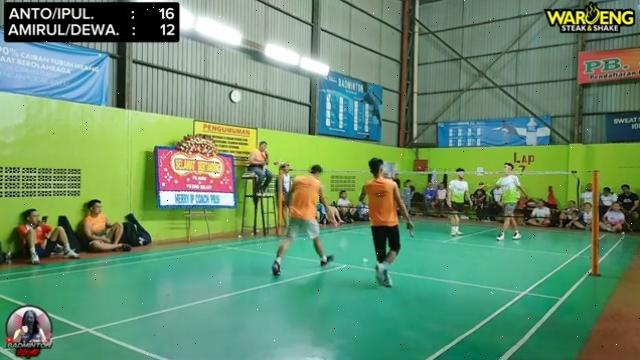Shuttlecock: (363, 255, 371, 264)
